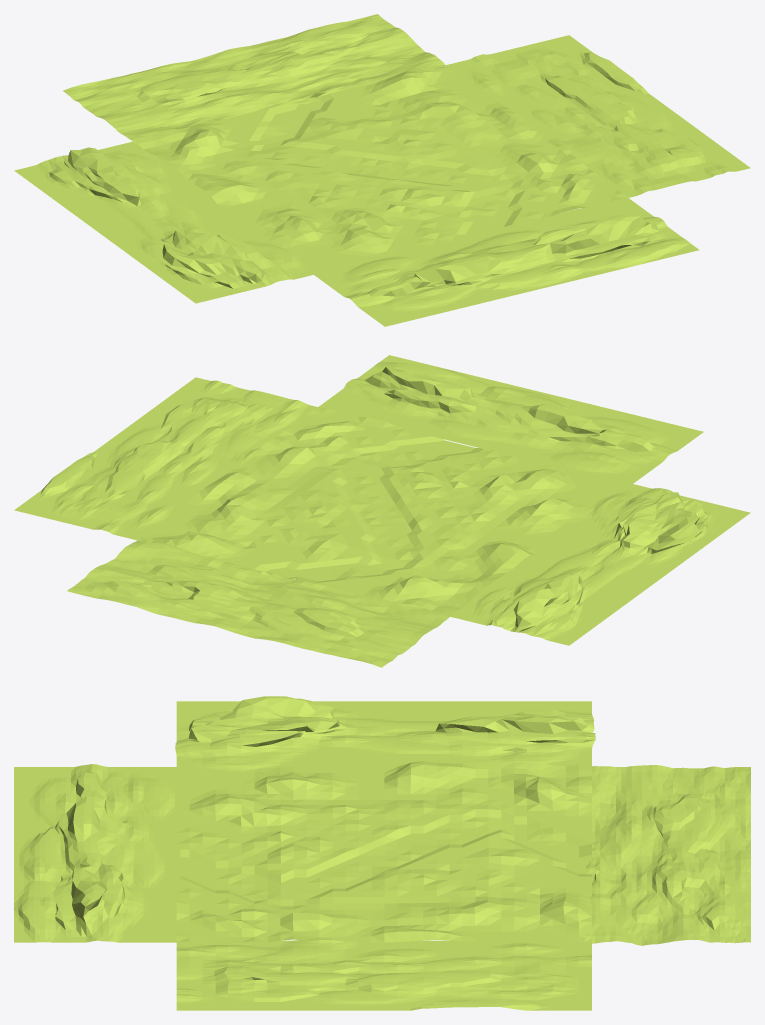
The model's file is LandscapeD4.gltf.
The picture shows the model from 3 angles, top to bottom: view 1: azimuth 30°, elevation 25°; view 2: azimuth 150°, elevation 25°; view 3: azimuth 270°, elevation 25°; orthographic projection. The views are drawn at different scales.
Parts seen in each view (by area): view 1: Plane, Plane.004, Plane.003, Plane.002, Plane.001; view 2: Plane, Plane.004, Plane.003, Plane.001, Plane.002; view 3: Plane, Plane.004, Plane.003, Plane.001, Plane.002.
Part boxes in pixels (left/top/right/bottom): Plane: left=132, top=65, right=628, bottom=274; Plane.004: left=314, top=198, right=699, bottom=326; Plane.003: left=447, top=35, right=750, bottom=197; Plane.002: left=14, top=141, right=317, bottom=303; Plane.001: left=63, top=14, right=447, bottom=143; Plane: left=136, top=407, right=628, bottom=614; Plane.004: left=319, top=355, right=703, bottom=483; Plane.003: left=14, top=377, right=317, bottom=539; Plane.001: left=67, top=538, right=453, bottom=667; Plane.002: left=450, top=483, right=750, bottom=645; Plane: left=176, top=761, right=591, bottom=942; Plane.004: left=14, top=764, right=180, bottom=942; Plane.003: left=176, top=938, right=591, bottom=1010; Plane.001: left=584, top=765, right=750, bottom=945; Plane.002: left=175, top=696, right=595, bottom=771.
Bounding box in the file's own units: 70.64 × 2.68 × 70.96.
